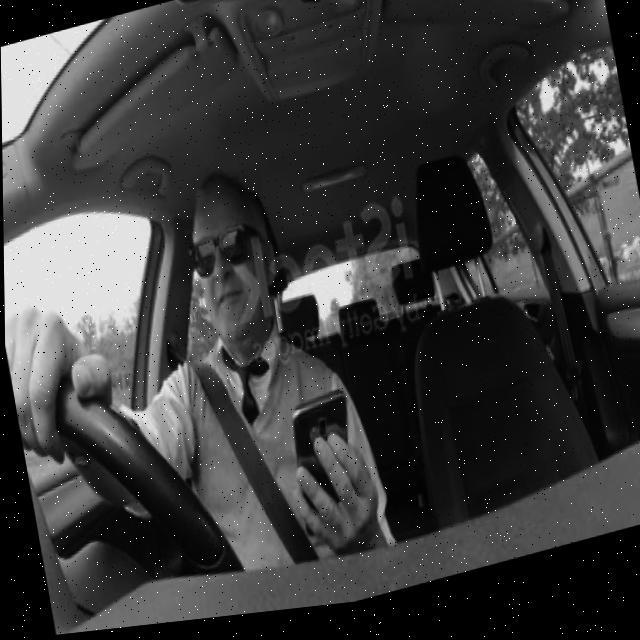PhoneCall: (282, 392, 368, 548)
